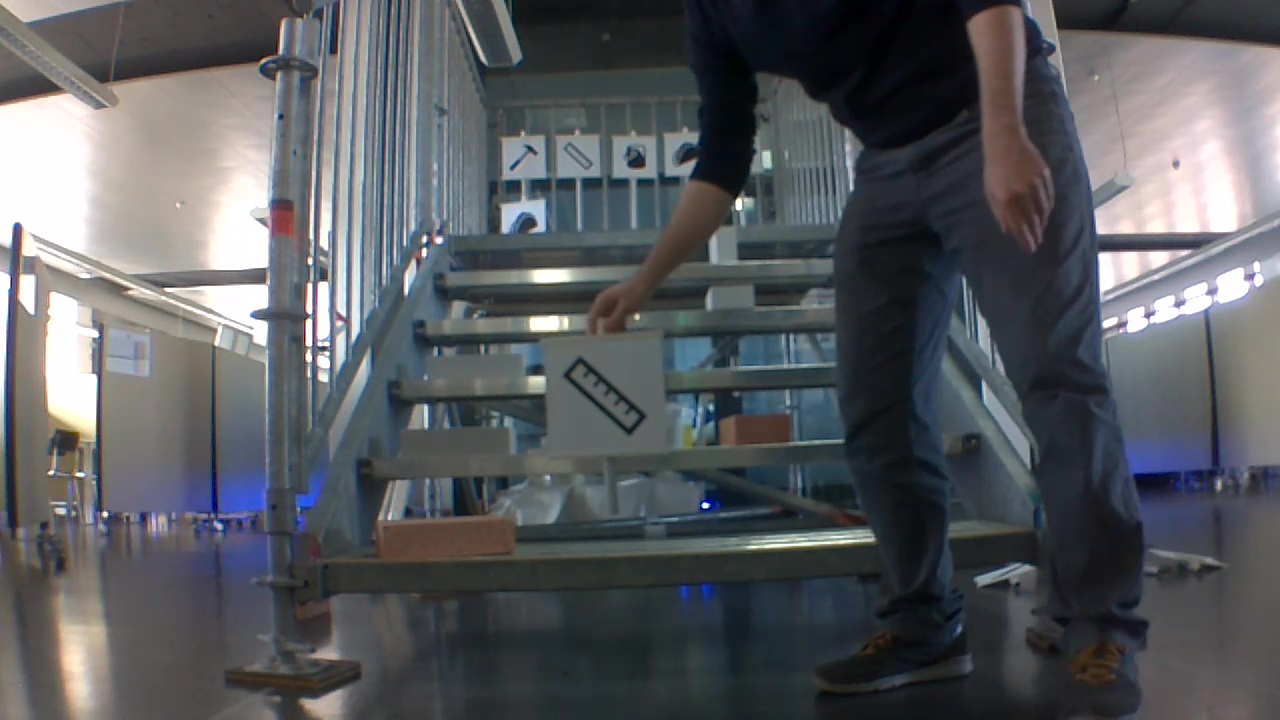brick: (371, 512, 523, 563), (400, 427, 521, 453), (721, 411, 796, 446), (421, 357, 527, 377), (703, 281, 761, 312), (710, 224, 737, 266)
bucket: (622, 140, 649, 170)
hammer: (508, 143, 540, 173)
ruler: (559, 349, 648, 435), (563, 141, 592, 170)
taco: (509, 212, 539, 237), (672, 141, 697, 168)
